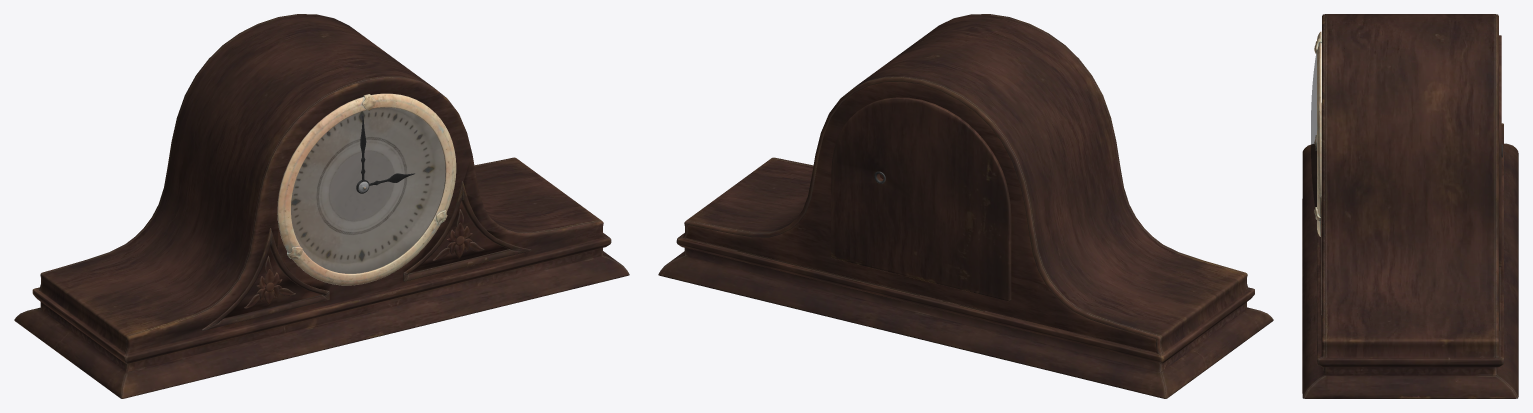
File: mantel-clock.glb
3 views of the same model, side by side, from view 1: azimuth 30°, elevation 25°; view 2: azimuth 150°, elevation 25°; view 3: azimuth 270°, elevation 25° (orthographic).
Visible parts, largest first — view 1: mantel_clock_01, mantel_clock_01_glass; view 2: mantel_clock_01; view 3: mantel_clock_01, mantel_clock_01_glass.
Boxes of the visible parts, x1,y1,x2,y2 form: mantel_clock_01: [14, 14, 629, 398]; mantel_clock_01_glass: [291, 107, 445, 273]; mantel_clock_01: [658, 14, 1273, 398]; mantel_clock_01: [1302, 14, 1518, 398]; mantel_clock_01_glass: [1311, 53, 1316, 207].
Bounding box in the file's own units: 0.3423 × 0.1605 × 0.1262.
2 materials, 2 textured.
